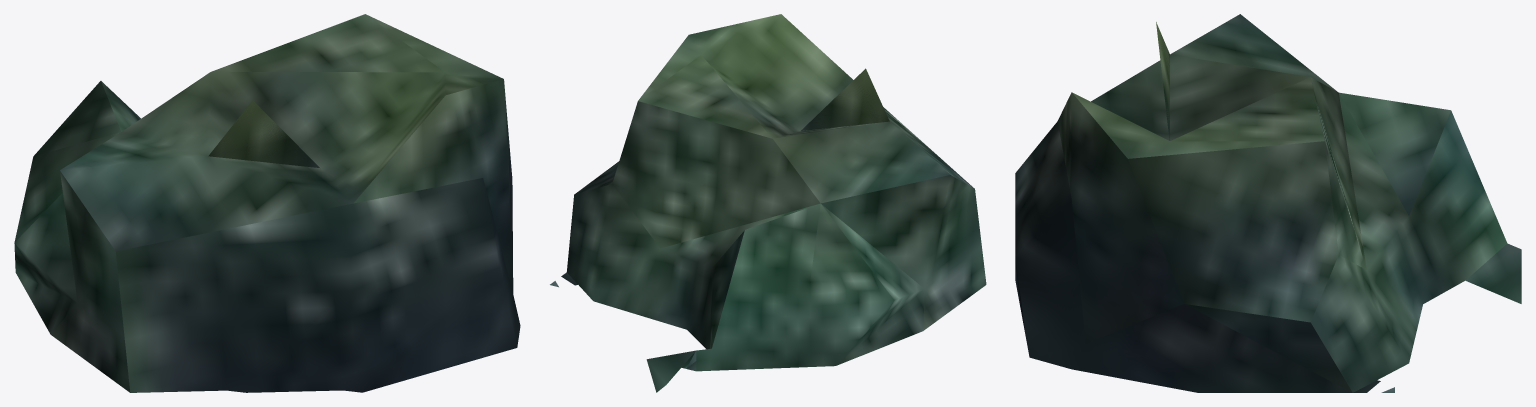
3 views of the same model, side by side, from view 1: azimuth 30°, elevation 25°; view 2: azimuth 150°, elevation 25°; view 3: azimuth 270°, elevation 25° (orthographic). The views are drawn at different scales.
Parts seen in each view (by area): view 1: 30436272704370606536_0; view 2: 30436272704370606536_0; view 3: 30436272704370606536_0.
Boxes of the visible parts, <box> form: 30436272704370606536_0: <box>14,14,520,392</box>; 30436272704370606536_0: <box>550,14,986,392</box>; 30436272704370606536_0: <box>1015,14,1521,392</box>.
Size of the model in its own units: 5.37 by 3.39 by 5.55.
1 material, 1 textured.
